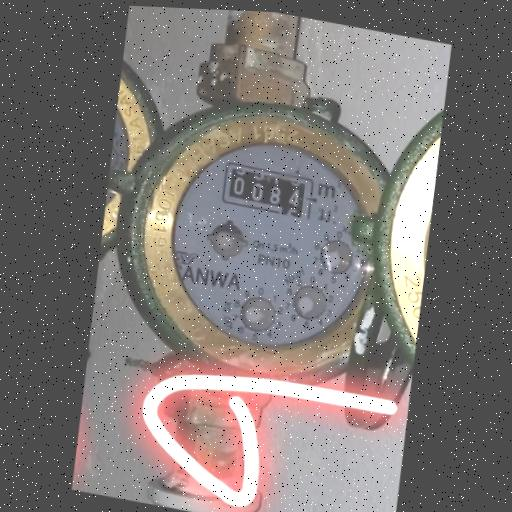0: (245, 172, 271, 205), (229, 168, 250, 200)
4: (280, 179, 306, 218)
8: (264, 175, 288, 208)
border_water_meter_number: (218, 160, 318, 221)
